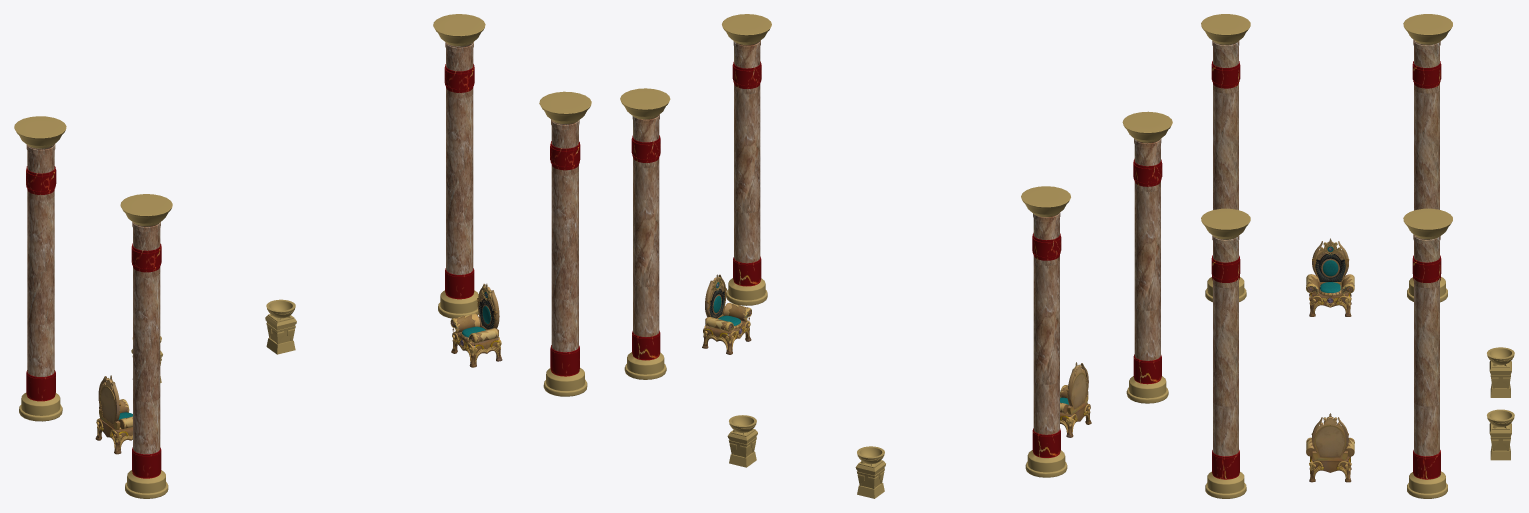
Rendered from Sabhamandap_Interior.gltf.
3 views of the same model, side by side, from view 1: azimuth 30°, elevation 25°; view 2: azimuth 150°, elevation 25°; view 3: azimuth 270°, elevation 25° (orthographic). The views are drawn at different scales.
Parts seen in each view (by area): view 1: XI_TOG_RightWall.Shape_XI_TOG_Wall_RightWall_Mat_0.029, XI_TOG_RightWall.Shape_XI_TOG_Wall_RightWall_Mat_0.011, XI_TOG_RightWall.Shape_XI_TOG_Wall_RightWall_Mat_0.015, XI_TOG_RightWall.Shape_XI_TOG_Wall_RightWall_Mat_0.016, XI_ToG_Ministers_Chair.Shape_XI_ToG_Ministers_Chair_Mat_0.00, XI_ToG_Ministers_Chair.Shape_XI_ToG_Ministers_Chair_Mat_0, XI_TOG_RightWall.Shape_XI_TOG_Wall_RightWall_Mat_0.001, XI_TOG_RightWall.Shape_XI_TOG_Wall_RightWall_Mat_0.022, XI_TOG_RightWall.Shape_XI_TOG_Wall_RightWall_Mat_0.017, XI_TOG_RightWall.Shape_XI_TOG_Wall_RightWall_Mat_0.005, altar_altar_0.001, XI_TOG_RightWall.Shape_XI_TOG_Wall_RightWall_Mat_0.020 (+11 smaller); view 2: XI_TOG_RightWall.Shape_XI_TOG_Wall_RightWall_Mat_0.015, XI_TOG_RightWall.Shape_XI_TOG_Wall_RightWall_Mat_0.016, XI_TOG_RightWall.Shape_XI_TOG_Wall_RightWall_Mat_0.011, XI_TOG_RightWall.Shape_XI_TOG_Wall_RightWall_Mat_0.029, XI_ToG_Ministers_Chair.Shape_XI_ToG_Ministers_Chair_Mat_0.00, XI_ToG_Ministers_Chair.Shape_XI_ToG_Ministers_Chair_Mat_0, XI_TOG_RightWall.Shape_XI_TOG_Wall_RightWall_Mat_0.001, XI_TOG_RightWall.Shape_XI_TOG_Wall_RightWall_Mat_0.022, XI_TOG_RightWall.Shape_XI_TOG_Wall_RightWall_Mat_0.005, XI_TOG_RightWall.Shape_XI_TOG_Wall_RightWall_Mat_0.017, altar, altar_altar_0.001 (+12 smaller); view 3: XI_TOG_RightWall.Shape_XI_TOG_Wall_RightWall_Mat_0.011, XI_TOG_RightWall.Shape_XI_TOG_Wall_RightWall_Mat_0.015, XI_TOG_RightWall.Shape_XI_TOG_Wall_RightWall_Mat_0.029, XI_TOG_RightWall.Shape_XI_TOG_Wall_RightWall_Mat_0.016, XI_ToG_Ministers_Chair.Shape_XI_ToG_Ministers_Chair_Mat_0, XI_ToG_Ministers_Chair.Shape_XI_ToG_Ministers_Chair_Mat_0.00, XI_TOG_RightWall.Shape_XI_TOG_Wall_RightWall_Mat_0.001, XI_TOG_RightWall.Shape_XI_TOG_Wall_RightWall_Mat_0.005, XI_TOG_RightWall.Shape_XI_TOG_Wall_RightWall_Mat_0.017, XI_TOG_RightWall.Shape_XI_TOG_Wall_RightWall_Mat_0.022, XI_TOG_RightWall.Shape_XI_TOG_Wall_RightWall_Mat_0.002, XI_TOG_RightWall.Shape_XI_TOG_Wall_RightWall_Mat_0.004 (+10 smaller).
Part boxes in pixels (bbox=[...]): XI_TOG_RightWall.Shape_XI_TOG_Wall_RightWall_Mat_0.029: bbox=[26, 144, 55, 376]; XI_TOG_RightWall.Shape_XI_TOG_Wall_RightWall_Mat_0.011: bbox=[445, 42, 473, 274]; XI_TOG_RightWall.Shape_XI_TOG_Wall_RightWall_Mat_0.015: bbox=[551, 119, 579, 352]; XI_TOG_RightWall.Shape_XI_TOG_Wall_RightWall_Mat_0.016: bbox=[132, 222, 160, 454]; XI_ToG_Ministers_Chair.Shape_XI_ToG_Ministers_Chair_Mat_0.00: bbox=[450, 283, 502, 367]; XI_ToG_Ministers_Chair.Shape_XI_ToG_Ministers_Chair_Mat_0: bbox=[95, 375, 132, 454]; XI_TOG_RightWall.Shape_XI_TOG_Wall_RightWall_Mat_0.001: bbox=[433, 14, 485, 46]; XI_TOG_RightWall.Shape_XI_TOG_Wall_RightWall_Mat_0.022: bbox=[14, 116, 66, 148]; XI_TOG_RightWall.Shape_XI_TOG_Wall_RightWall_Mat_0.017: bbox=[120, 194, 172, 226]; XI_TOG_RightWall.Shape_XI_TOG_Wall_RightWall_Mat_0.005: bbox=[539, 91, 591, 124]; altar_altar_0.001: bbox=[265, 314, 296, 354]; XI_TOG_RightWall.Shape_XI_TOG_Wall_RightWall_Mat_0.020: bbox=[19, 393, 62, 421]; XI_TOG_RightWall.Shape_XI_TOG_Wall_RightWall_Mat_0.015: bbox=[733, 40, 760, 263]; XI_TOG_RightWall.Shape_XI_TOG_Wall_RightWall_Mat_0.016: bbox=[1134, 138, 1161, 360]; XI_TOG_RightWall.Shape_XI_TOG_Wall_RightWall_Mat_0.011: bbox=[632, 114, 659, 336]; XI_TOG_RightWall.Shape_XI_TOG_Wall_RightWall_Mat_0.029: bbox=[1033, 212, 1060, 434]; XI_ToG_Ministers_Chair.Shape_XI_ToG_Ministers_Chair_Mat_0.00: bbox=[702, 274, 751, 354]; XI_ToG_Ministers_Chair.Shape_XI_ToG_Ministers_Chair_Mat_0: bbox=[1060, 362, 1091, 437]; XI_TOG_RightWall.Shape_XI_TOG_Wall_RightWall_Mat_0.001: bbox=[620, 88, 670, 119]; XI_TOG_RightWall.Shape_XI_TOG_Wall_RightWall_Mat_0.022: bbox=[1021, 186, 1070, 217]; XI_TOG_RightWall.Shape_XI_TOG_Wall_RightWall_Mat_0.005: bbox=[722, 14, 771, 44]; XI_TOG_RightWall.Shape_XI_TOG_Wall_RightWall_Mat_0.017: bbox=[1122, 111, 1172, 142]; altar: bbox=[855, 460, 885, 498]; altar_altar_0.001: bbox=[727, 429, 757, 467]; XI_TOG_RightWall.Shape_XI_TOG_Wall_RightWall_Mat_0.011: bbox=[1413, 234, 1440, 456]; XI_TOG_RightWall.Shape_XI_TOG_Wall_RightWall_Mat_0.015: bbox=[1212, 235, 1239, 456]; XI_TOG_RightWall.Shape_XI_TOG_Wall_RightWall_Mat_0.029: bbox=[1413, 40, 1440, 210]; XI_TOG_RightWall.Shape_XI_TOG_Wall_RightWall_Mat_0.016: bbox=[1212, 41, 1239, 209]; XI_ToG_Ministers_Chair.Shape_XI_ToG_Ministers_Chair_Mat_0: bbox=[1306, 238, 1354, 316]; XI_ToG_Ministers_Chair.Shape_XI_ToG_Ministers_Chair_Mat_0.00: bbox=[1306, 413, 1354, 482]; XI_TOG_RightWall.Shape_XI_TOG_Wall_RightWall_Mat_0.001: bbox=[1403, 208, 1452, 239]; XI_TOG_RightWall.Shape_XI_TOG_Wall_RightWall_Mat_0.005: bbox=[1201, 208, 1250, 239]; XI_TOG_RightWall.Shape_XI_TOG_Wall_RightWall_Mat_0.017: bbox=[1201, 14, 1250, 44]; XI_TOG_RightWall.Shape_XI_TOG_Wall_RightWall_Mat_0.022: bbox=[1403, 14, 1452, 44]; XI_TOG_RightWall.Shape_XI_TOG_Wall_RightWall_Mat_0.002: bbox=[1205, 471, 1246, 498]; XI_TOG_RightWall.Shape_XI_TOG_Wall_RightWall_Mat_0.004: bbox=[1407, 471, 1447, 498].
Bounding box in the file's own units: 26.78 × 17.5 × 16.47.
26 materials, 26 textured.
